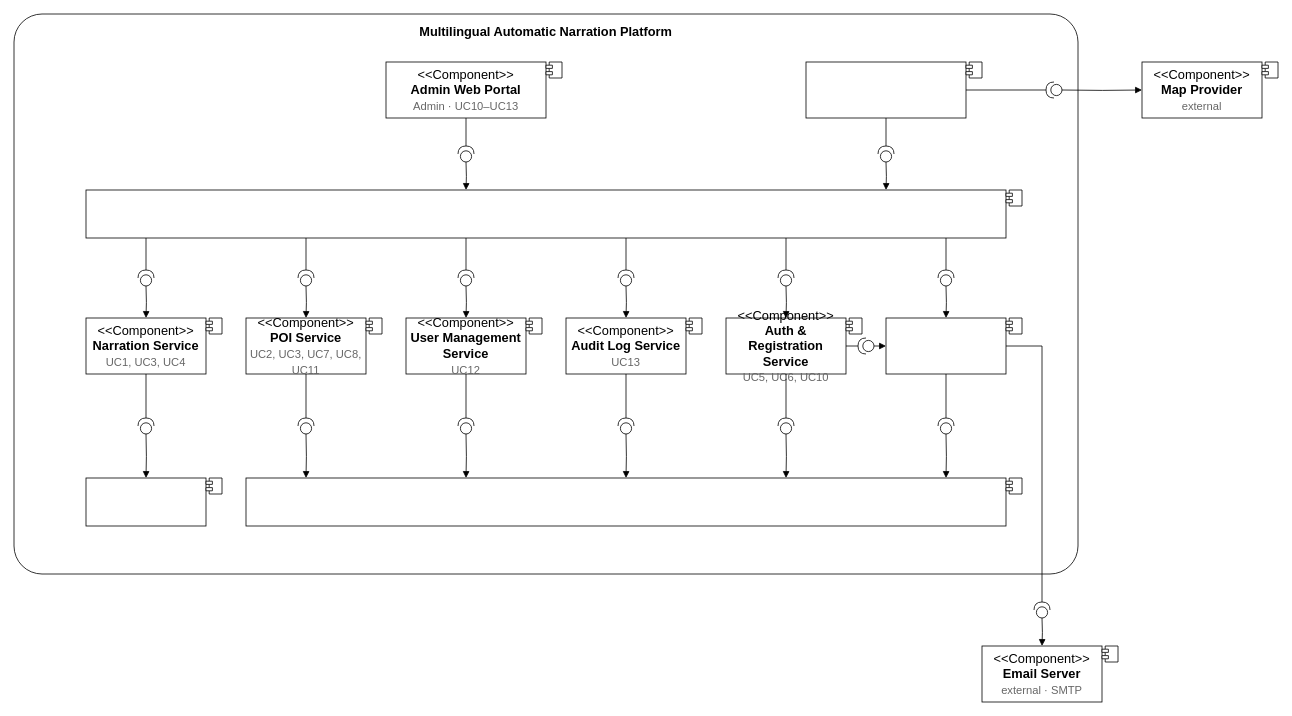
This 1292x716 diagram has some shape labels left out. The shapes that lost their labels are listed below. From the top down, each one's centre as x and y in pixels, then its label:
point (885, 89): <<Component>> Mobile App Visitor / POI Owner · UC1–UC9
point (545, 213): <<Component>> API Gateway
point (945, 345): <<Component>> Notification Service UC9
point (145, 501): <<Component>> File Storage audio / media files
point (625, 501): <<Component>> Database users · POIs · submissions · notifications · audit logs
